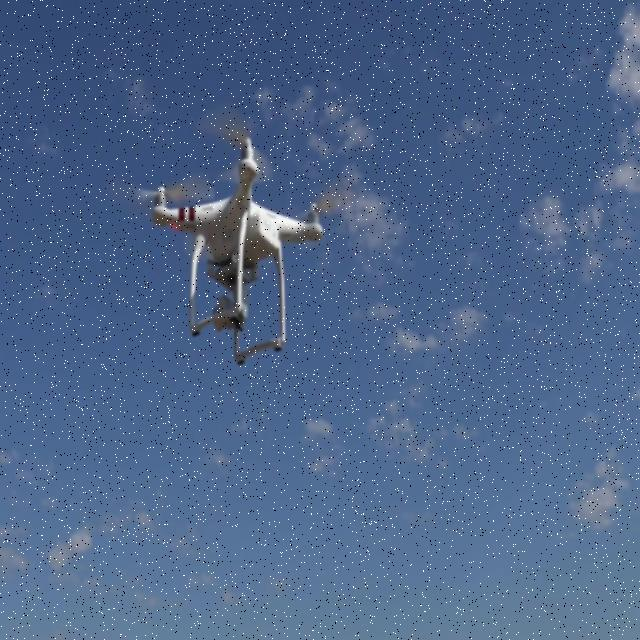UAV: (130, 107, 346, 365)
